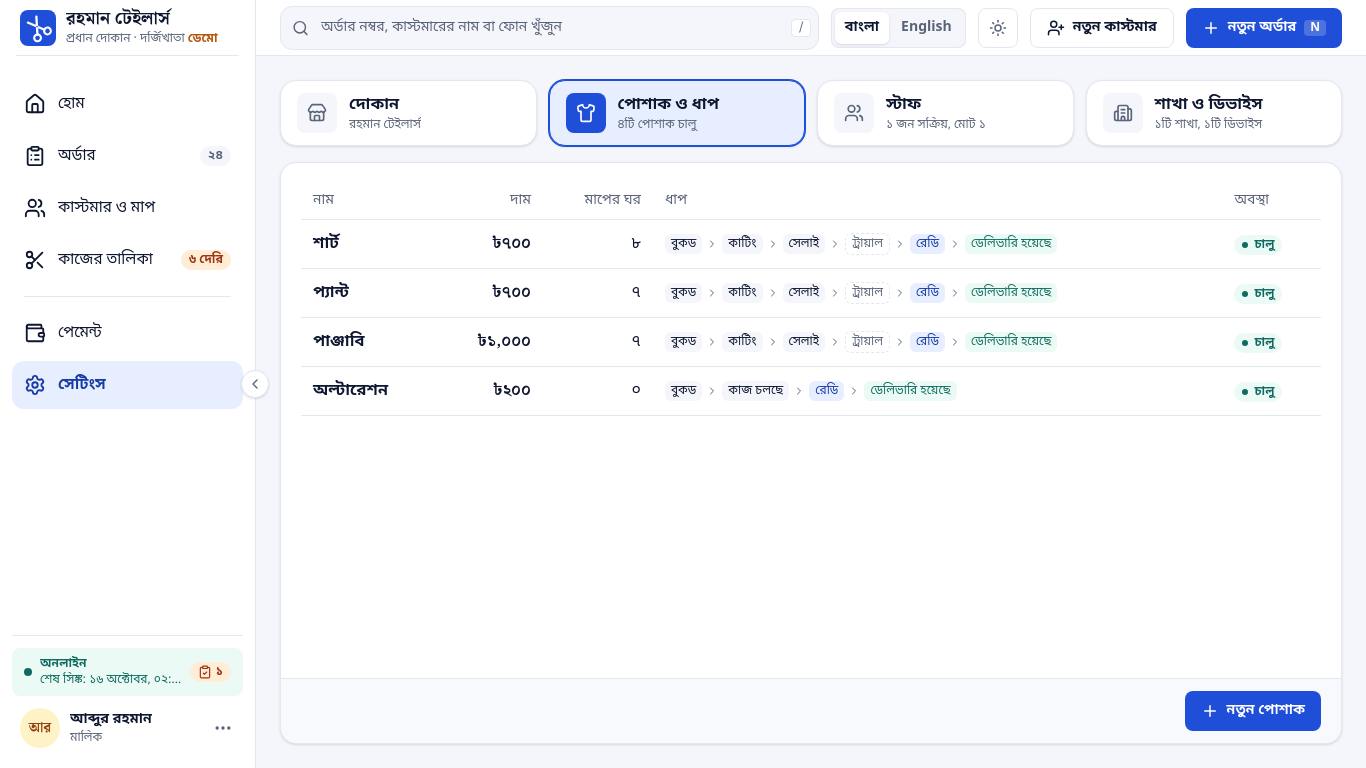
Test: Desktop garment editor › removes a stage for new orders only
Click the link "শার্ট" at (326, 244), box [313,233,339,255]
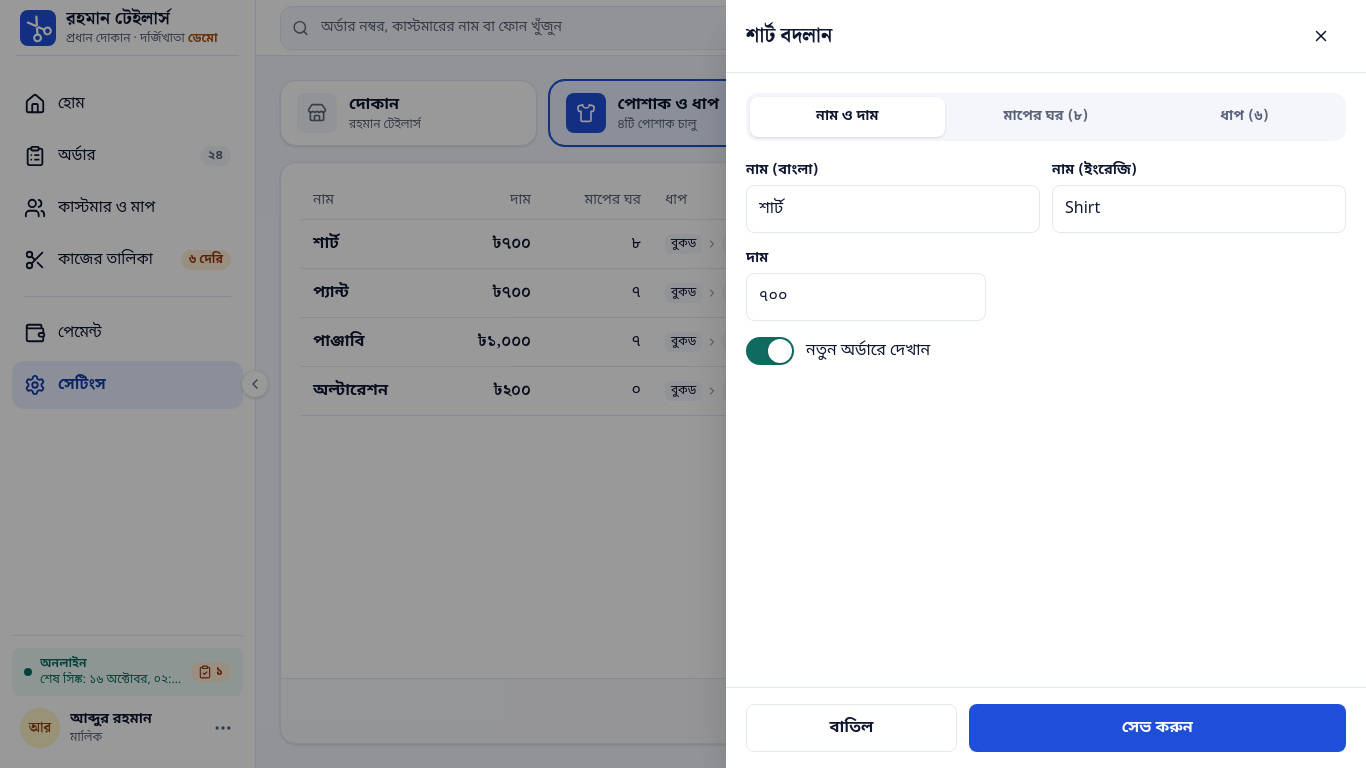
Click the tab "ধাপ (৬)" at (1245, 117), box [1147,97,1342,137]
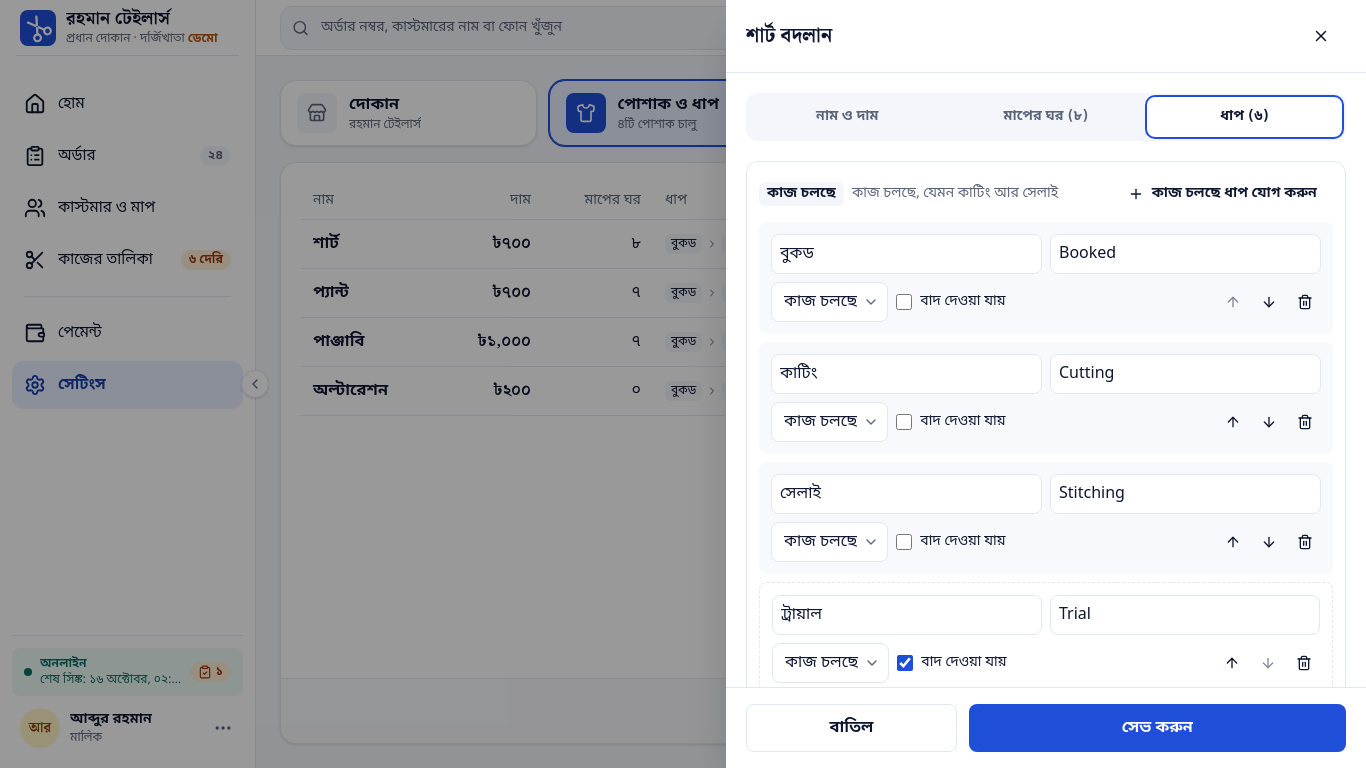
Click the button named "ধাপ ৪ বাদ দিন" at (1304, 663), box [1288,645,1320,681]
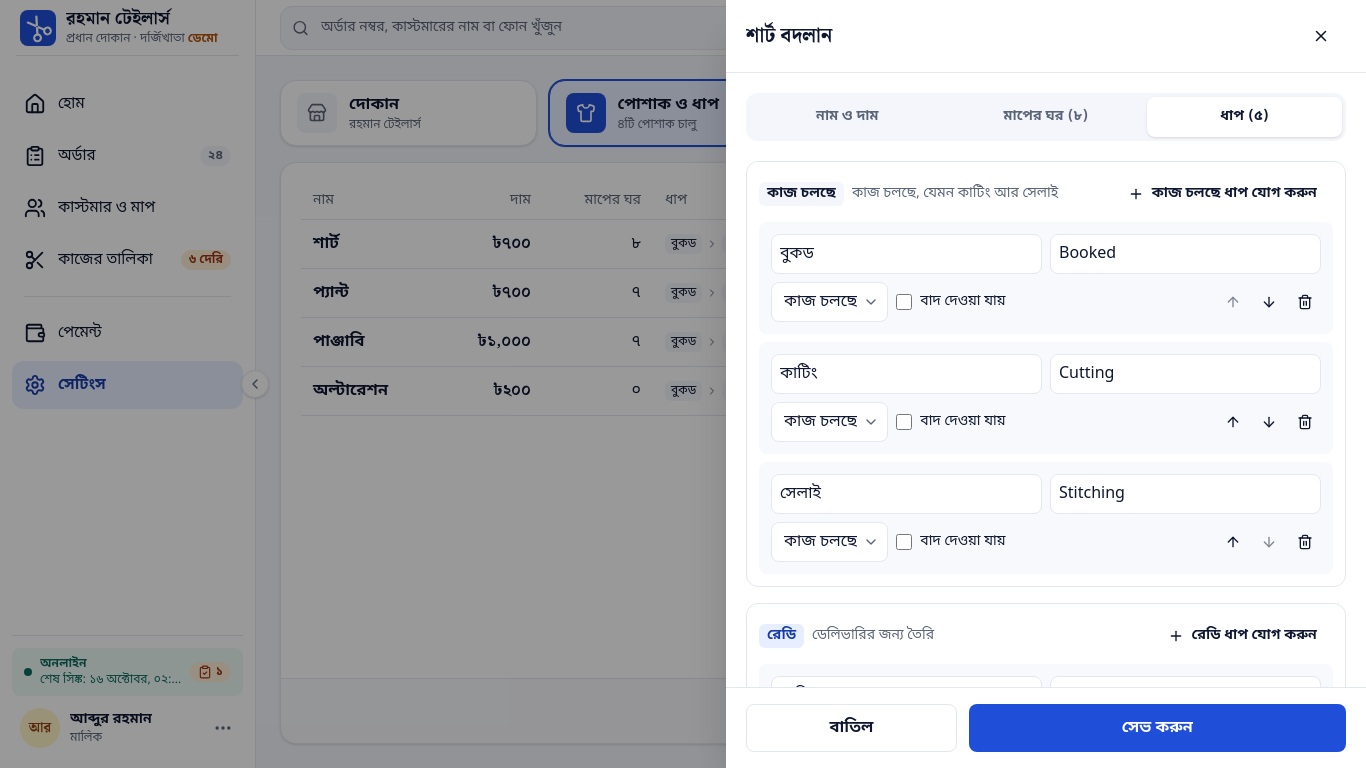
Click the button "সেভ করুন" at (1157, 728), box [969,704,1346,752]
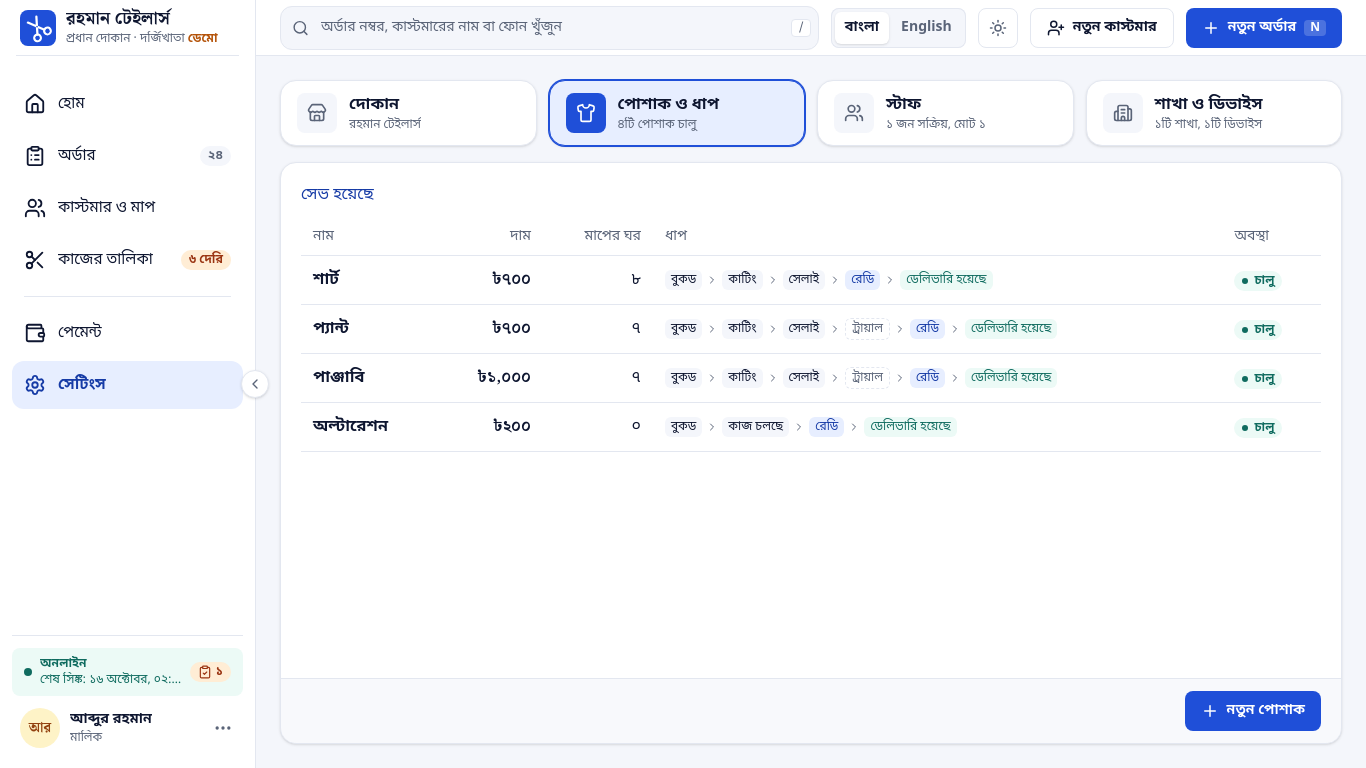
Now the text "সেভ হয়েছে" is shown, box [301,184,374,206]
